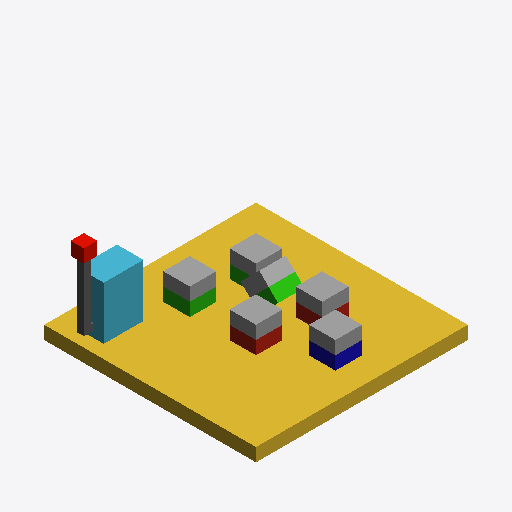
A Minecraft block model of 13 cuboids, rendered isometrically (azimuth 45°, elevation 35.3°) with the resource pack's own textures.
Parts seen in each view (by area): element 1, element 3, element 10, element 9, element 12, element 8, element 13, element 11, element 5, element 6.
Boxes of the visible parts, box(x1,y1,x2,y2) form: element 1: box(44, 203, 467, 461); element 3: box(87, 245, 142, 343); element 10: box(163, 256, 215, 316); element 9: box(309, 310, 361, 370); element 12: box(230, 295, 281, 354); element 8: box(296, 271, 348, 324); element 13: box(241, 256, 300, 304); element 11: box(230, 233, 281, 285); element 5: box(77, 260, 90, 327); element 6: box(71, 233, 96, 262).
Bounding box in the file's own units: 16 × 11 × 16.